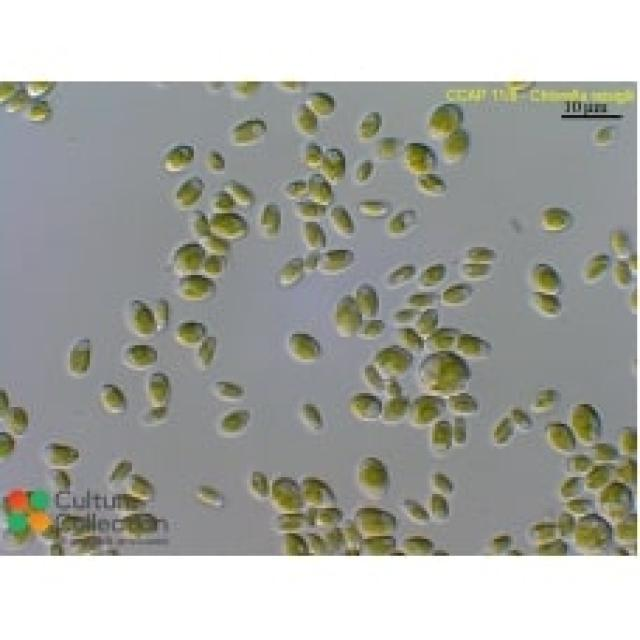Green Algae: (418, 348, 469, 390), (348, 503, 404, 536), (121, 298, 160, 340), (357, 452, 390, 500), (424, 101, 466, 138), (404, 140, 444, 177), (64, 337, 96, 379), (542, 421, 578, 458), (124, 342, 166, 373), (42, 438, 84, 469), (224, 115, 270, 143), (272, 474, 306, 511), (214, 410, 258, 438), (573, 517, 609, 550), (300, 474, 337, 506), (570, 402, 598, 444), (374, 346, 416, 374), (286, 334, 328, 362), (595, 486, 634, 516), (528, 264, 564, 295), (328, 295, 356, 334), (300, 396, 326, 438), (211, 374, 247, 404), (531, 286, 564, 318), (398, 494, 429, 528), (460, 334, 497, 362), (539, 205, 575, 233), (385, 208, 421, 236), (101, 379, 129, 415), (413, 396, 452, 421), (331, 202, 357, 239), (5, 401, 31, 438), (609, 452, 640, 483), (177, 174, 205, 208), (561, 452, 595, 480), (177, 272, 213, 298), (356, 281, 382, 317), (157, 146, 194, 171), (166, 244, 199, 272), (444, 281, 480, 306), (280, 528, 312, 556), (587, 461, 620, 488), (443, 126, 469, 160), (258, 202, 284, 236), (303, 219, 329, 253), (320, 244, 354, 270), (460, 255, 494, 281), (348, 393, 379, 421), (416, 168, 449, 194), (609, 256, 635, 289), (528, 519, 561, 545), (213, 213, 250, 236), (432, 415, 455, 452), (272, 508, 306, 533), (354, 110, 384, 138), (171, 320, 208, 342), (224, 180, 256, 205), (292, 104, 320, 132), (382, 396, 410, 424), (247, 468, 272, 499), (275, 256, 300, 286), (449, 393, 483, 415), (429, 488, 452, 520), (126, 474, 154, 500), (416, 264, 449, 286), (146, 371, 168, 404), (196, 337, 219, 368), (384, 264, 416, 286), (584, 252, 609, 280), (295, 191, 323, 216), (323, 149, 342, 185), (199, 233, 230, 255), (311, 508, 351, 525), (354, 534, 396, 550), (469, 244, 502, 264), (430, 323, 460, 345), (306, 93, 340, 112), (185, 208, 208, 236), (567, 491, 595, 514), (534, 387, 562, 410), (618, 424, 637, 457), (357, 317, 388, 337), (362, 362, 382, 393), (399, 323, 421, 351), (511, 404, 533, 430), (432, 469, 458, 491), (26, 101, 54, 121), (404, 536, 432, 556), (205, 253, 230, 275), (51, 469, 73, 494), (612, 228, 632, 255), (356, 197, 384, 216), (415, 309, 438, 331), (494, 416, 511, 444), (306, 140, 323, 166), (208, 149, 230, 168), (281, 177, 303, 196), (356, 160, 374, 182)
